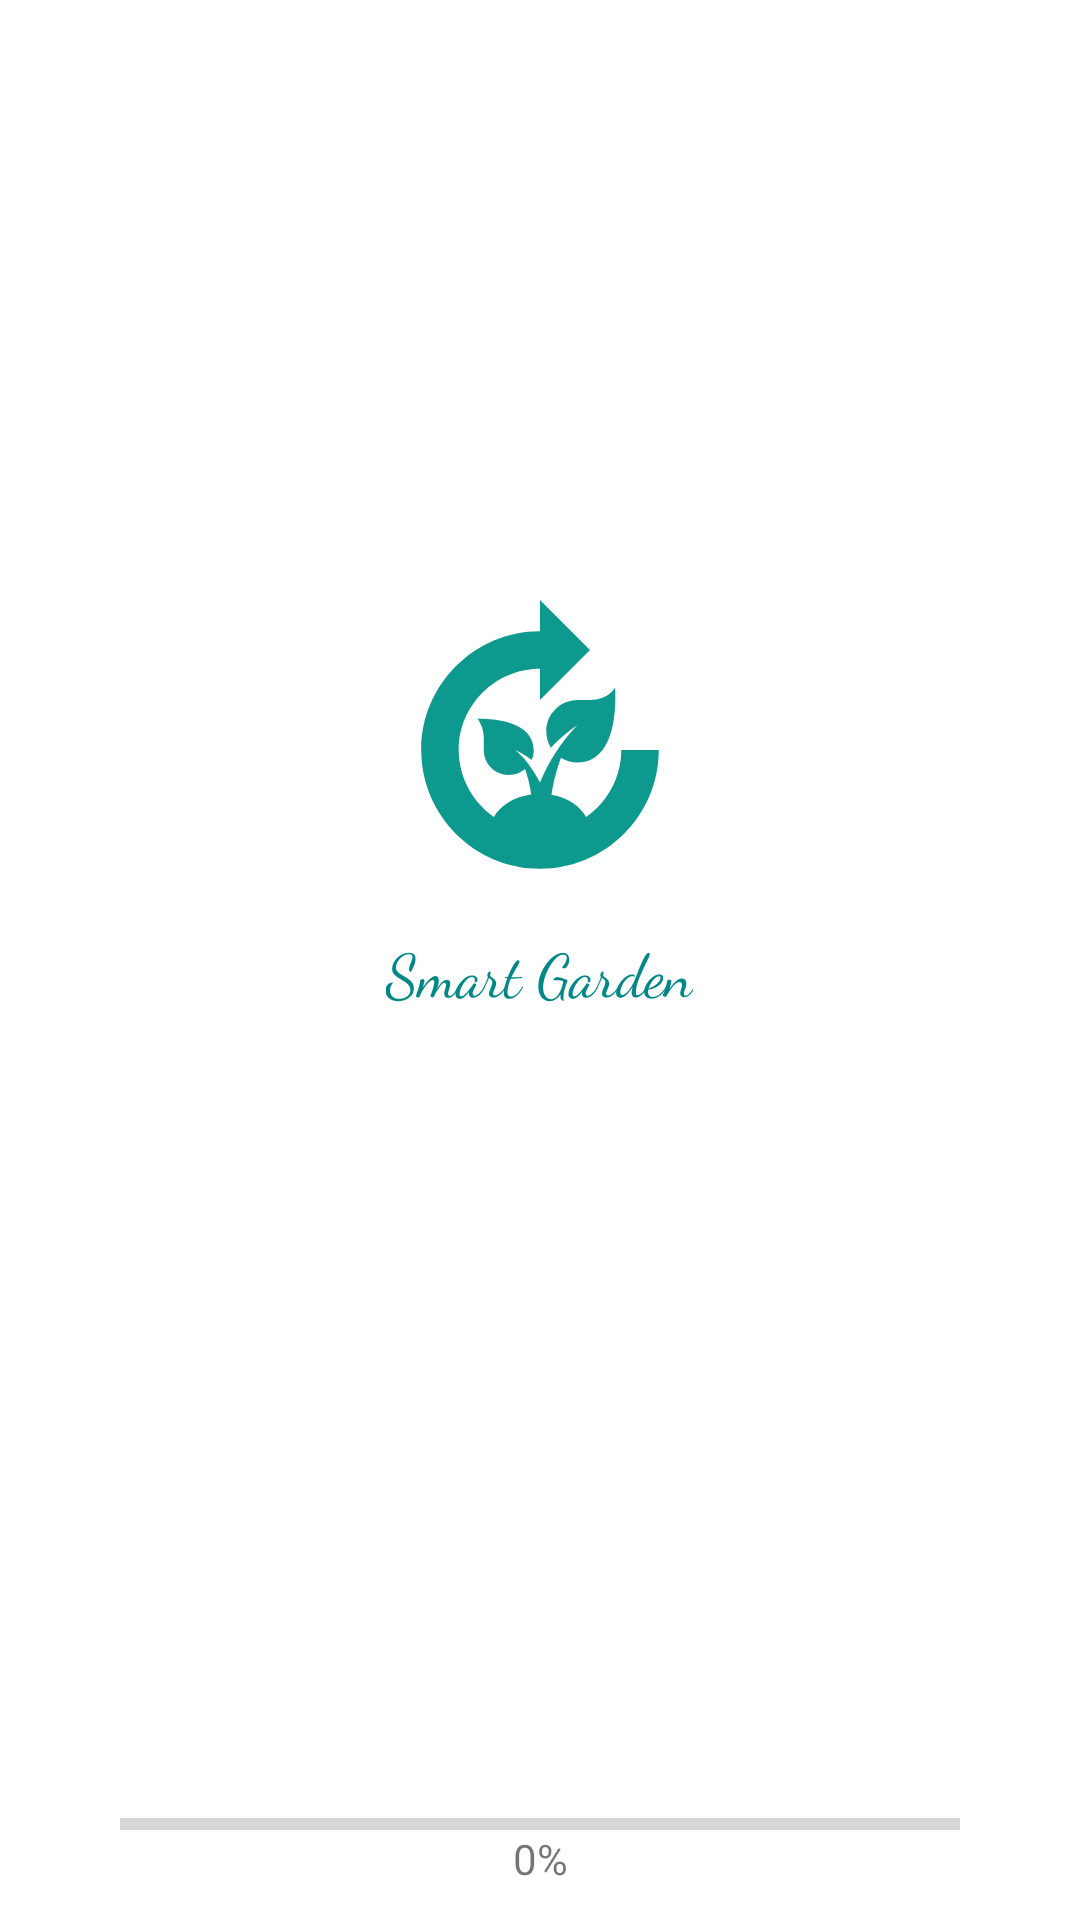

Icons on this 1080*1920 Android screen, each with the point to tap as point (x, y):
compost: point (540, 734)
